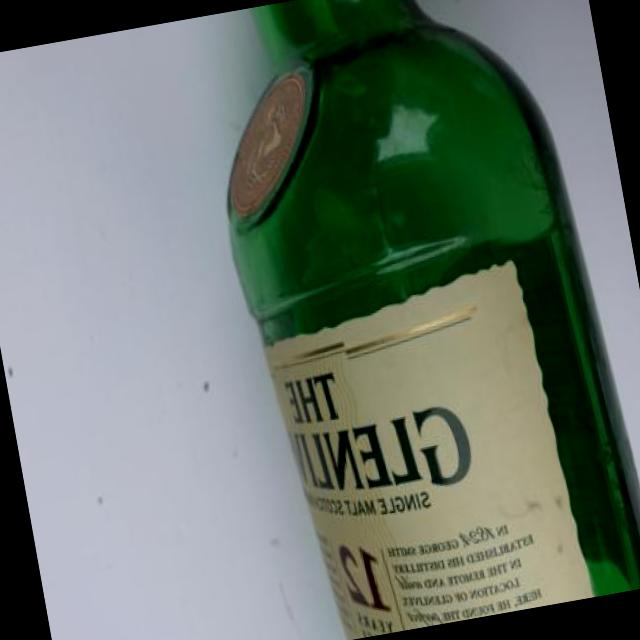chai_thuy_tinh: (225, 0, 640, 597)
giay: (264, 261, 590, 640)
